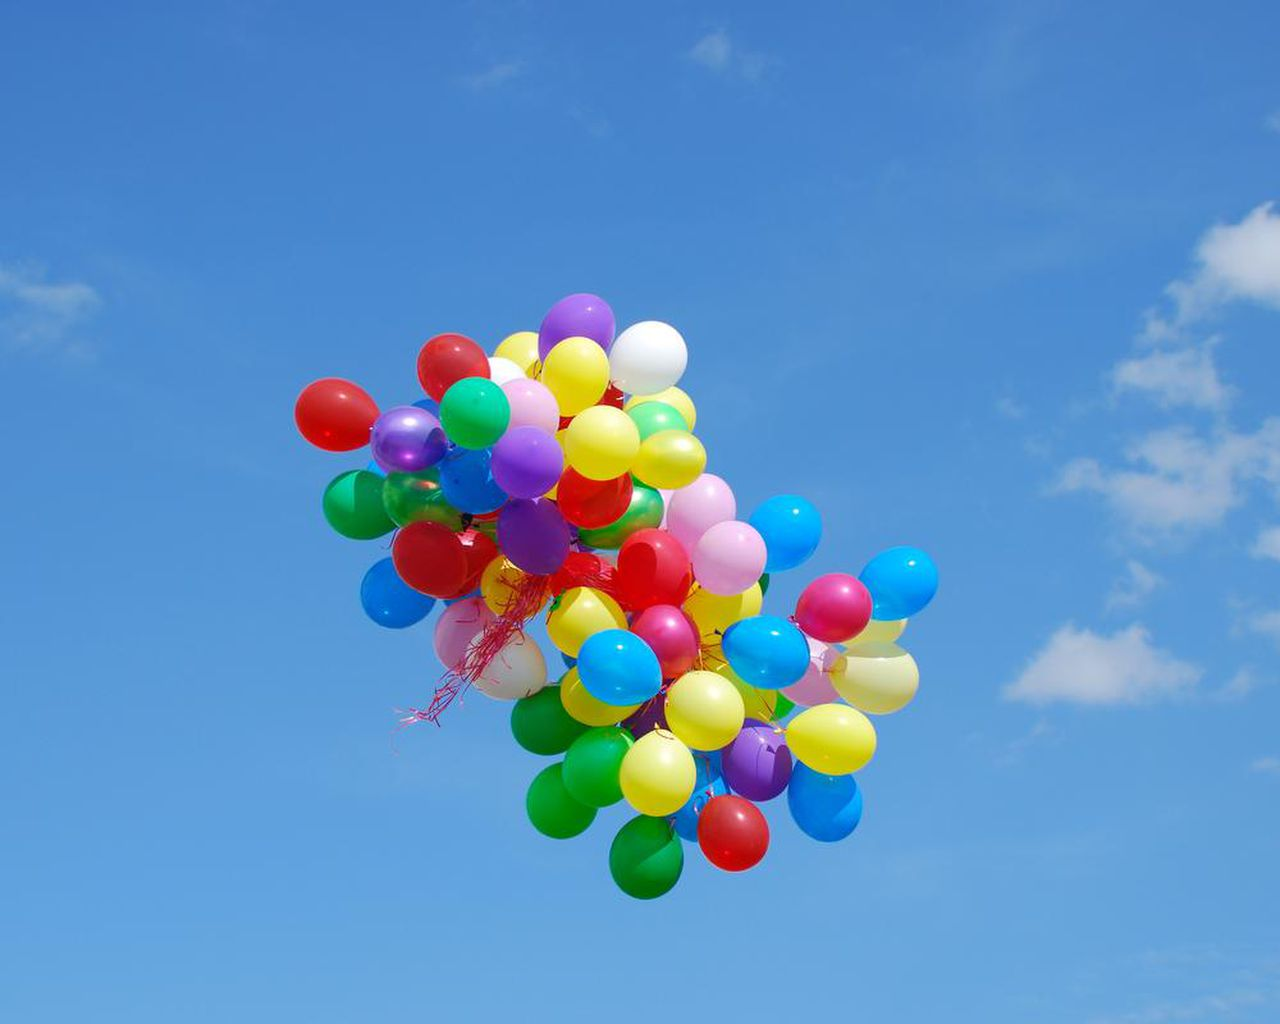Balloon: (785, 702, 878, 775), (619, 728, 696, 816), (721, 615, 811, 690), (664, 669, 744, 750), (610, 814, 685, 900), (831, 641, 920, 713), (578, 628, 664, 701), (392, 520, 472, 598), (496, 495, 571, 576), (618, 528, 691, 609), (608, 321, 688, 395), (860, 546, 939, 620), (293, 378, 374, 449), (698, 794, 770, 872), (466, 628, 546, 698), (750, 495, 823, 572), (693, 521, 767, 596), (795, 572, 872, 642), (542, 336, 610, 414), (564, 404, 634, 479), (722, 727, 792, 800), (372, 406, 447, 474), (493, 425, 562, 496), (323, 471, 395, 539), (440, 378, 511, 446), (565, 726, 625, 807), (632, 429, 706, 489)
